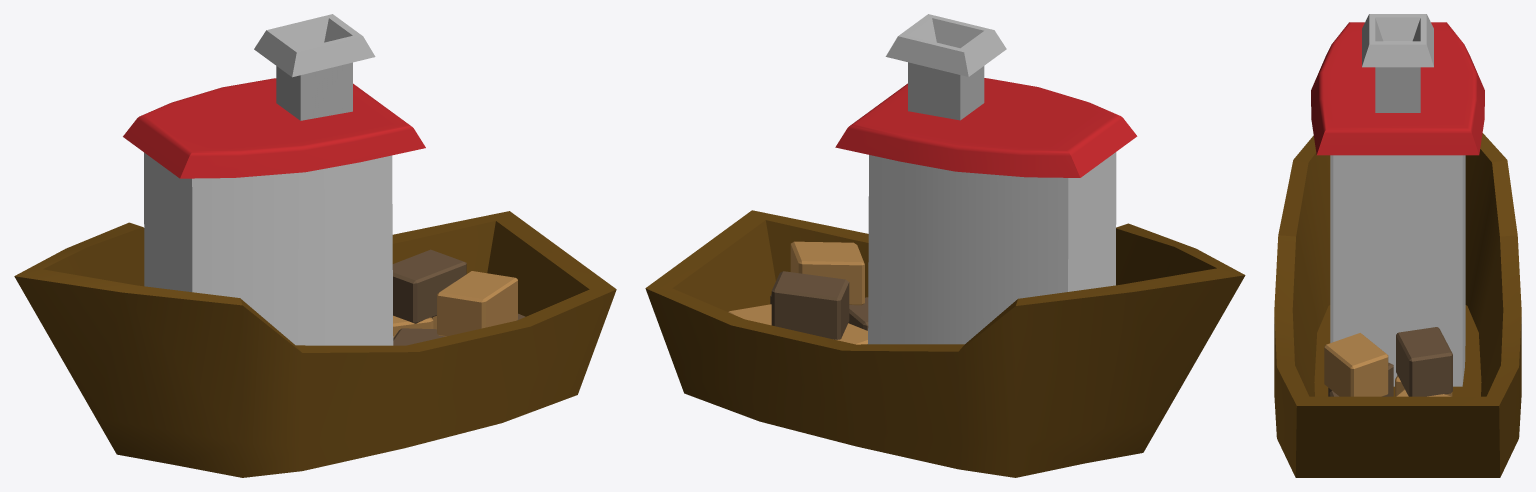
Rendered from mBarquito02.fbx.
3 renders of one model, left to right at view 1: azimuth 30°, elevation 25°; view 2: azimuth 150°, elevation 25°; view 3: azimuth 270°, elevation 25°, orthographic. The views are drawn at different scales.
Parts seen in each view (by area): view 1: mBarquito02; view 2: mBarquito02; view 3: mBarquito02.
Boxes of the visible parts, x1=… form: mBarquito02: x1=14, y1=14, x2=616, y2=477; mBarquito02: x1=645, y1=14, x2=1245, y2=477; mBarquito02: x1=1274, y1=14, x2=1521, y2=477.
Bounding box in the file's own units: 143 × 92.75 × 59.04.
